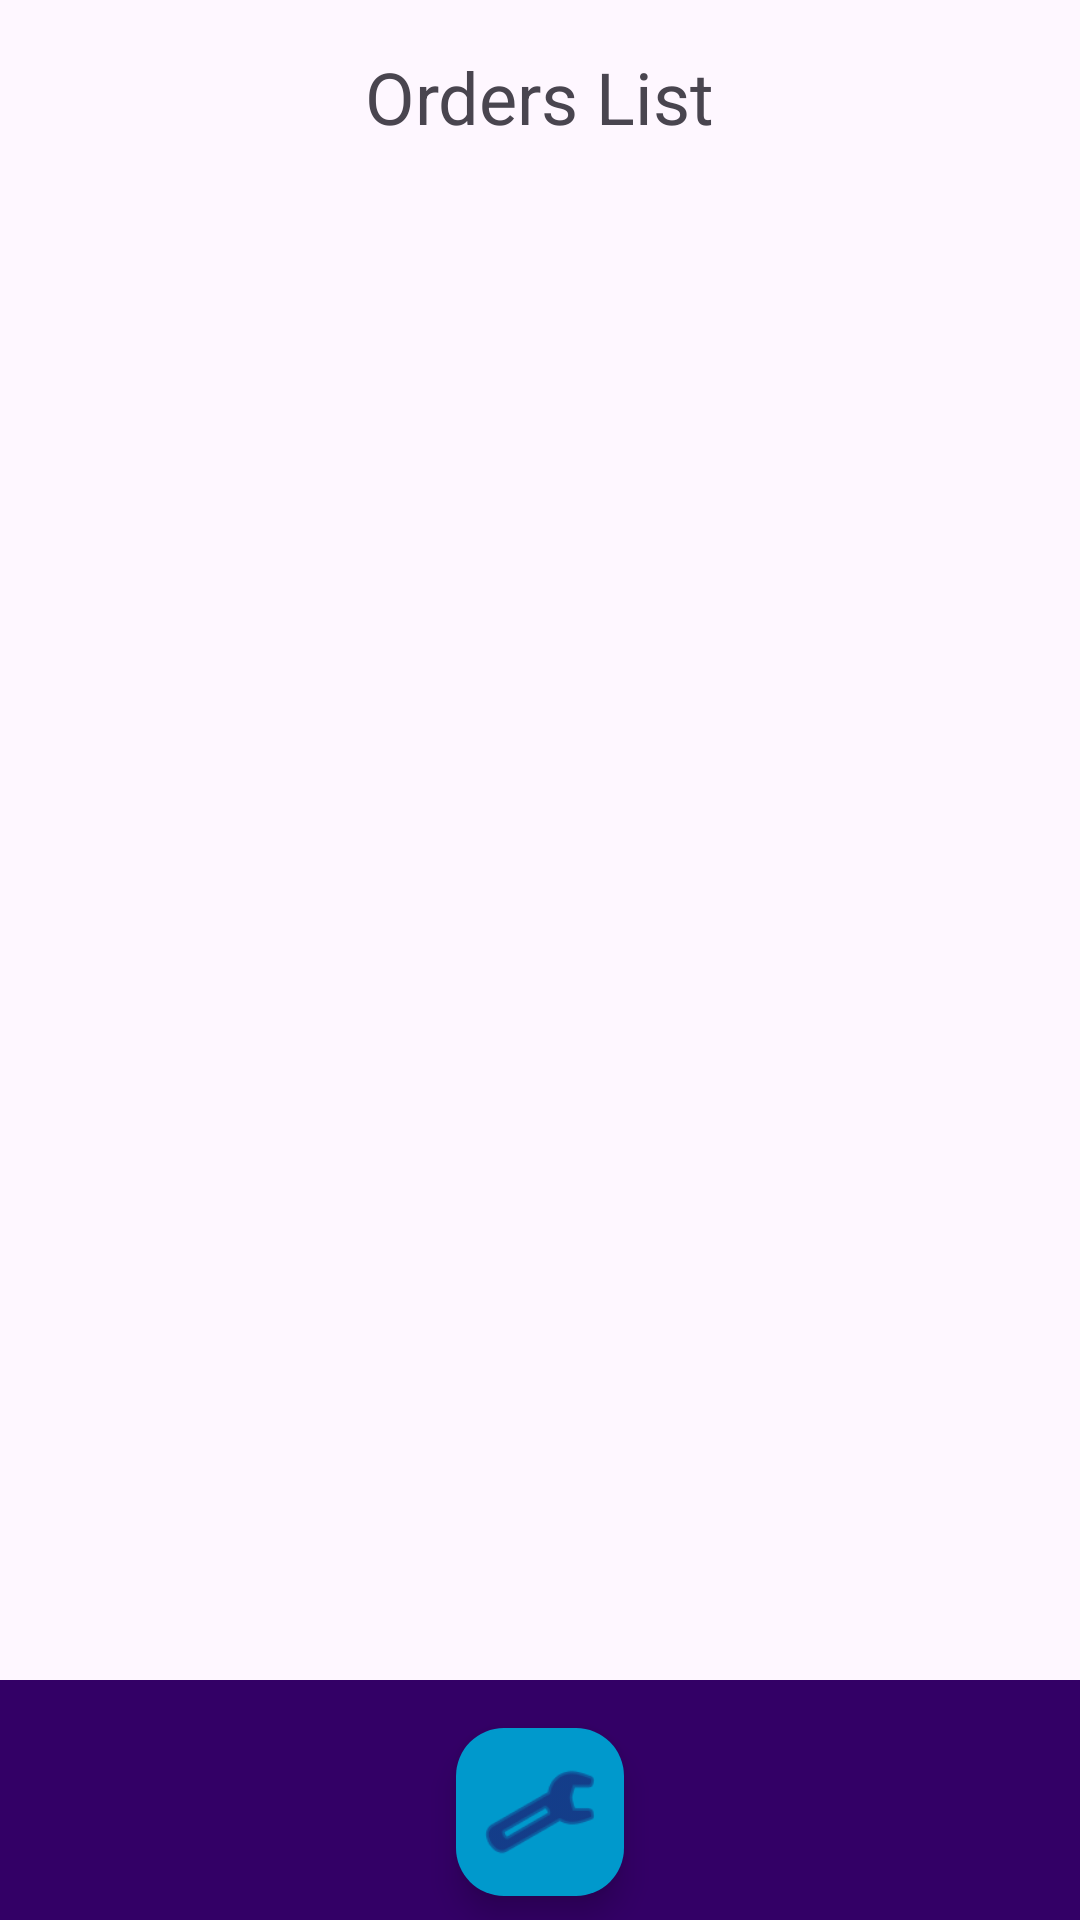

Where to tap for icons on this 1080*1920 app screen, as (x=x, y=y):
manage: (x=540, y=1812)
